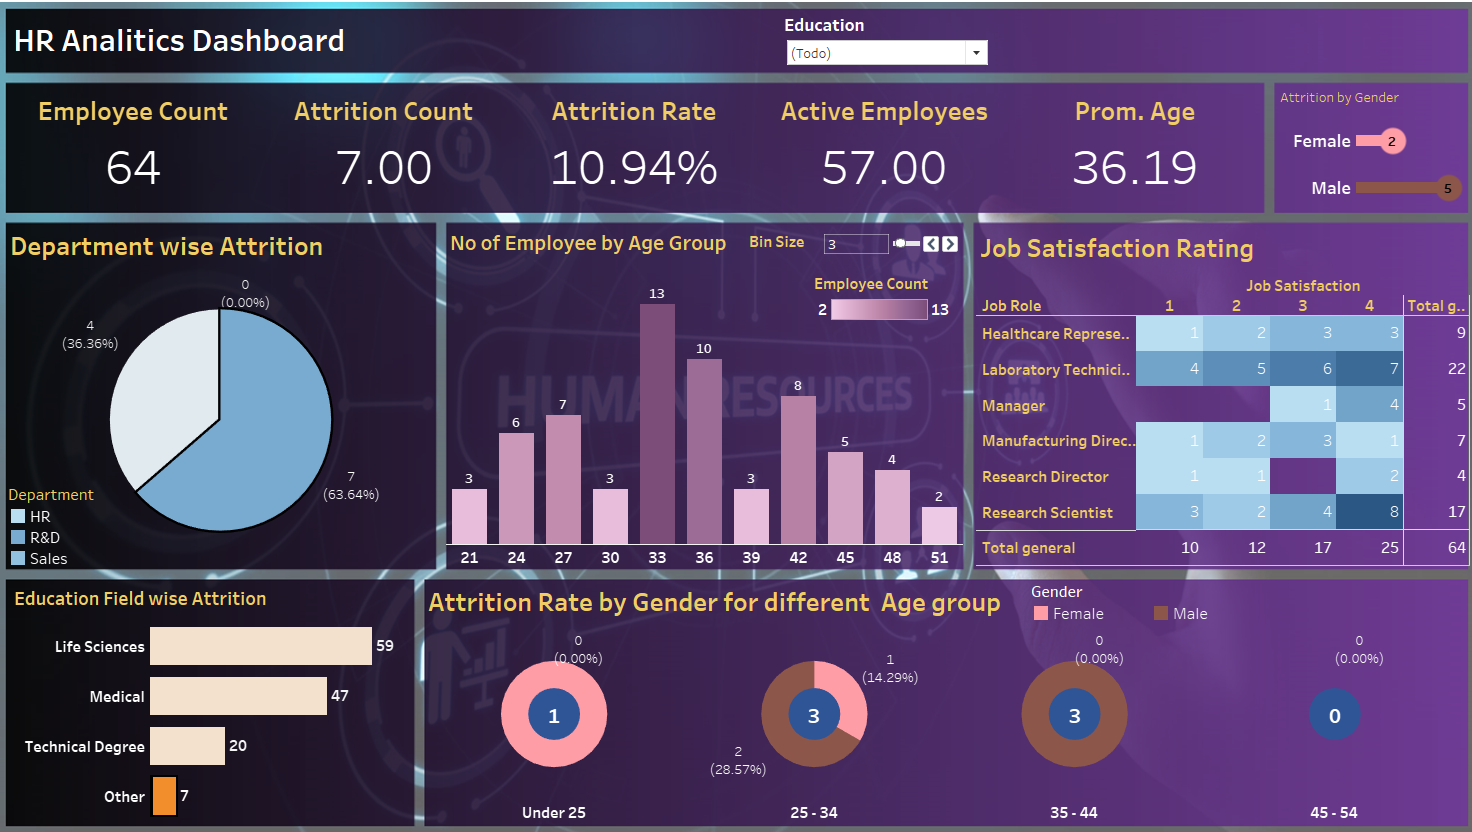

The dashboard page shown, as its layout file describes it:
{"tool":"tableau","page":{"name":"HR Analitics Dashboard","canvas":[1500,900],"ordinal":0},"visuals":[{"type":"image","param":"C:/Users/fenix/Downloads/HR background.png","box":[8,8,1484,884]},{"type":"filter","title":"Department wise Attrition","param":"[federated.1sy8a281tl7mtg171hjtj0in2a7y].[none:Education:nk]","box":[797,23,207,58]},{"type":"text","box":[23,24,924,50]},{"type":"worksheet","title":"Attrition by Gender","mark":"Automatic","rows":["Gender"],"cols":["Calculation_747316130715373568","Calculation_747316130715373568"],"box":[1289,94,192,127]},{"type":"worksheet","title":"KPI","mark":"Automatic","box":[21,97,1252,116]},{"type":"worksheet","title":"Department wise Attrition","mark":"Pie","box":[19,234,429,343]},{"type":"worksheet","title":"No of Employee by Age Group","mark":"Automatic","rows":["Employee Count"],"cols":["Age (agrupación)"],"box":[459,234,517,345]},{"type":"worksheet","title":"Job Satisfaction Rating","mark":"Square","rows":["Job Role"],"cols":["Job Satisfaction"],"box":[989,236,495,341]},{"type":"parameter","param":"[Parameters].[Parámetro 1]","box":[762,241,212,39]},{"type":"legend","title":"No of Employee by Age Group","param":"[federated.1sy8a281tl7mtg171hjtj0in2a7y].[sum:Employee Count:qk]","box":[827,283,140,51]},{"type":"legend","title":"Department wise Attrition","param":"[federated.1sy8a281tl7mtg171hjtj0in2a7y].[none:Department:nk]","box":[21,494,140,85]},{"type":"worksheet","title":"Attrition Rate by Gender for different  Age group","mark":"Pie","rows":["Calculation_747316131719393284","Calculation_747316131719639046"],"cols":["CF_age band"],"box":[437,590,1041,244]},{"type":"worksheet","title":"Education Field wise Attrition","mark":"Automatic","rows":["Education Field"],"cols":["Calculation_747316130715373568"],"box":[23,591,400,240]},{"type":"legend","title":"Attrition Rate by Gender for different  Age group","param":"[federated.1sy8a281tl7mtg171hjtj0in2a7y].[none:Gender:nk]","box":[1044,591,341,52]}]}

Visuals, with their boxes on the page's 1500x900 design canvas (x1, y1, x2, y2). These are canvas units, not pixel positions in the 1472x832 screenshot, which may show the page scaled, cropped or inside an application window:
image: l=8, t=8, r=1492, b=892
"Department wise Attrition" filter: l=797, t=23, r=1004, b=81
text: l=23, t=24, r=947, b=74
"Attrition by Gender" worksheet: l=1289, t=94, r=1481, b=221
"KPI" worksheet: l=21, t=97, r=1273, b=213
"Department wise Attrition" worksheet (Pie marks): l=19, t=234, r=448, b=577
"No of Employee by Age Group" worksheet: l=459, t=234, r=976, b=579
"Job Satisfaction Rating" worksheet (Square marks): l=989, t=236, r=1484, b=577
parameter: l=762, t=241, r=974, b=280
"No of Employee by Age Group" legend: l=827, t=283, r=967, b=334
"Department wise Attrition" legend: l=21, t=494, r=161, b=579
"Attrition Rate by Gender for different  Age group" worksheet (Pie marks): l=437, t=590, r=1478, b=834
"Education Field wise Attrition" worksheet: l=23, t=591, r=423, b=831
"Attrition Rate by Gender for different  Age group" legend: l=1044, t=591, r=1385, b=643
